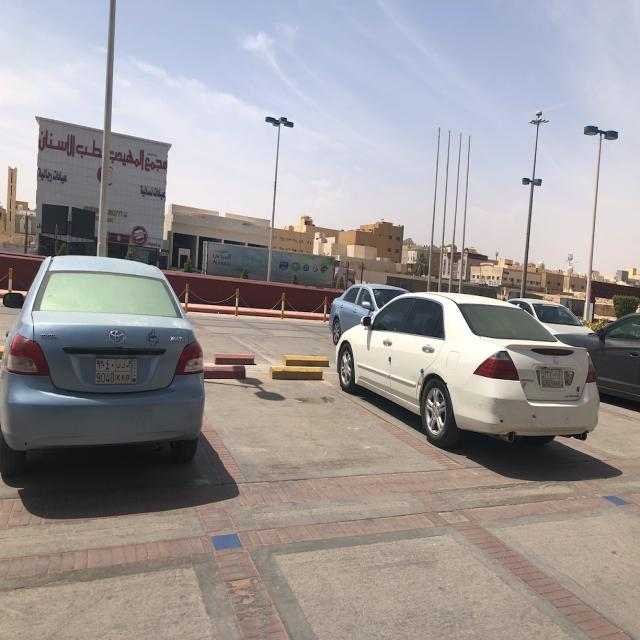license_plate: (94, 357, 140, 386), (538, 366, 567, 391)
